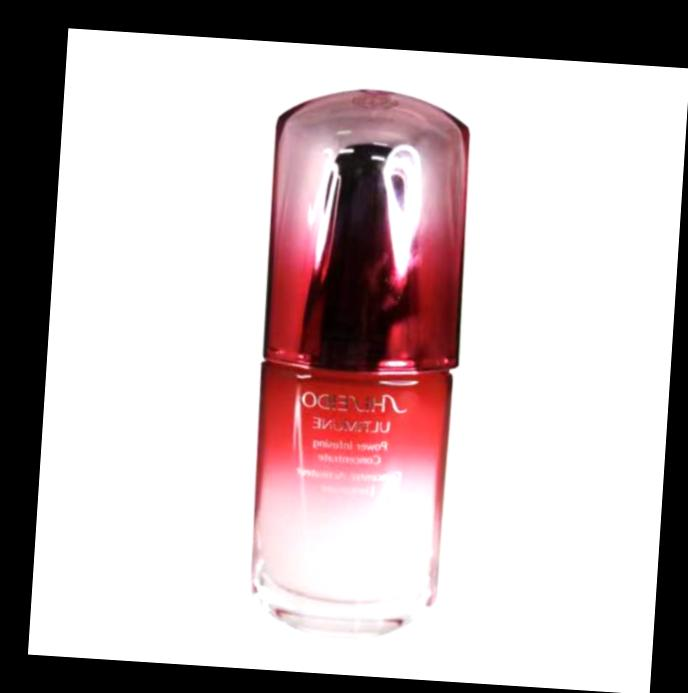cosmetic: (239, 78, 477, 639)
